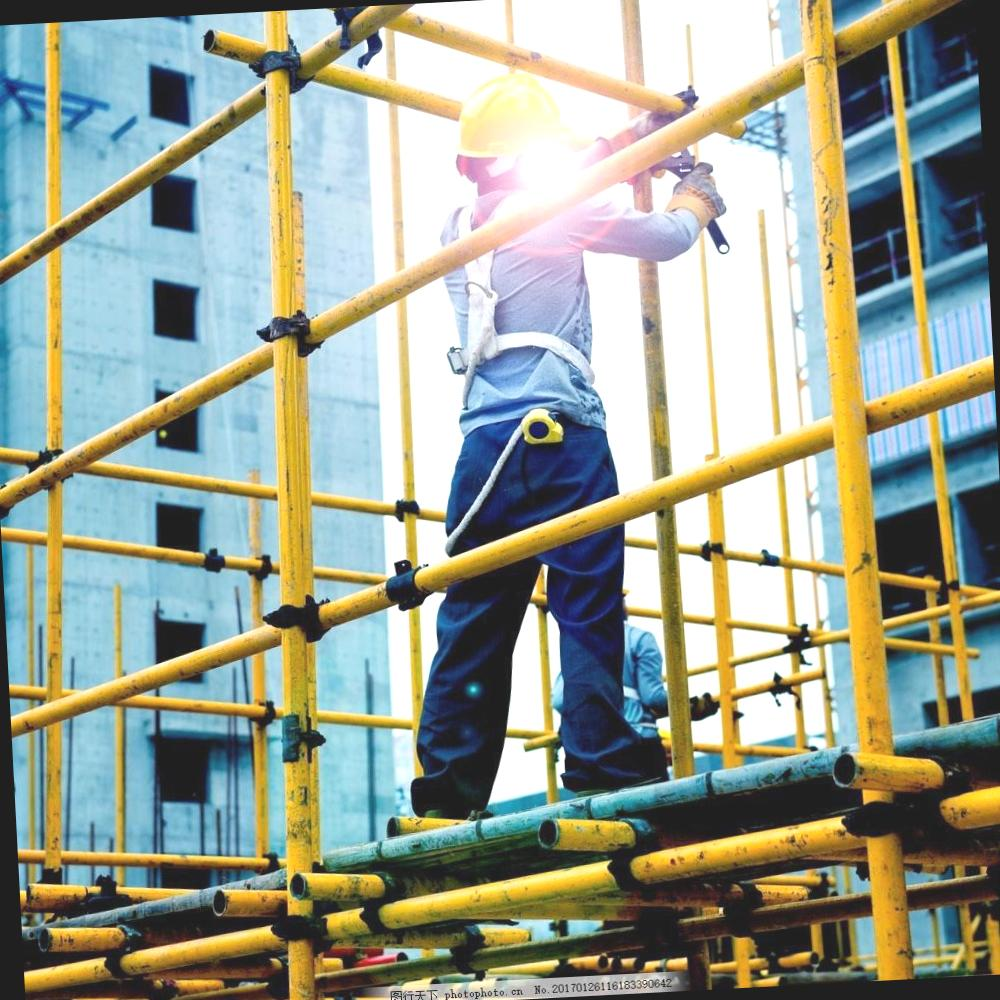helmet: (456, 70, 576, 162)
no_vest: (423, 184, 604, 432)
person: (360, 60, 700, 810)
